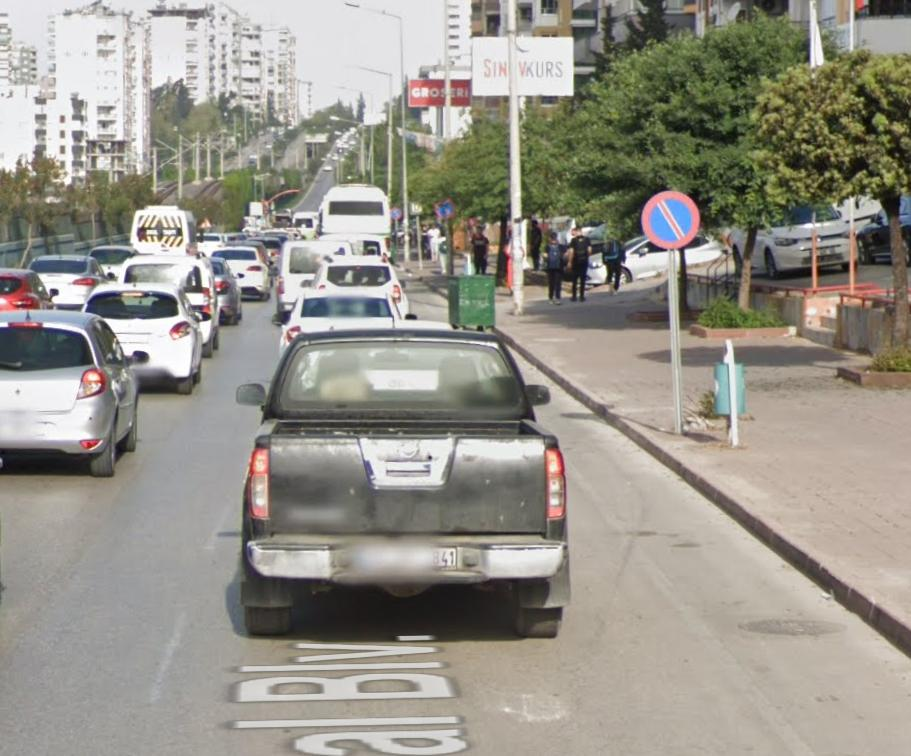nopark: (643, 191, 700, 248)
